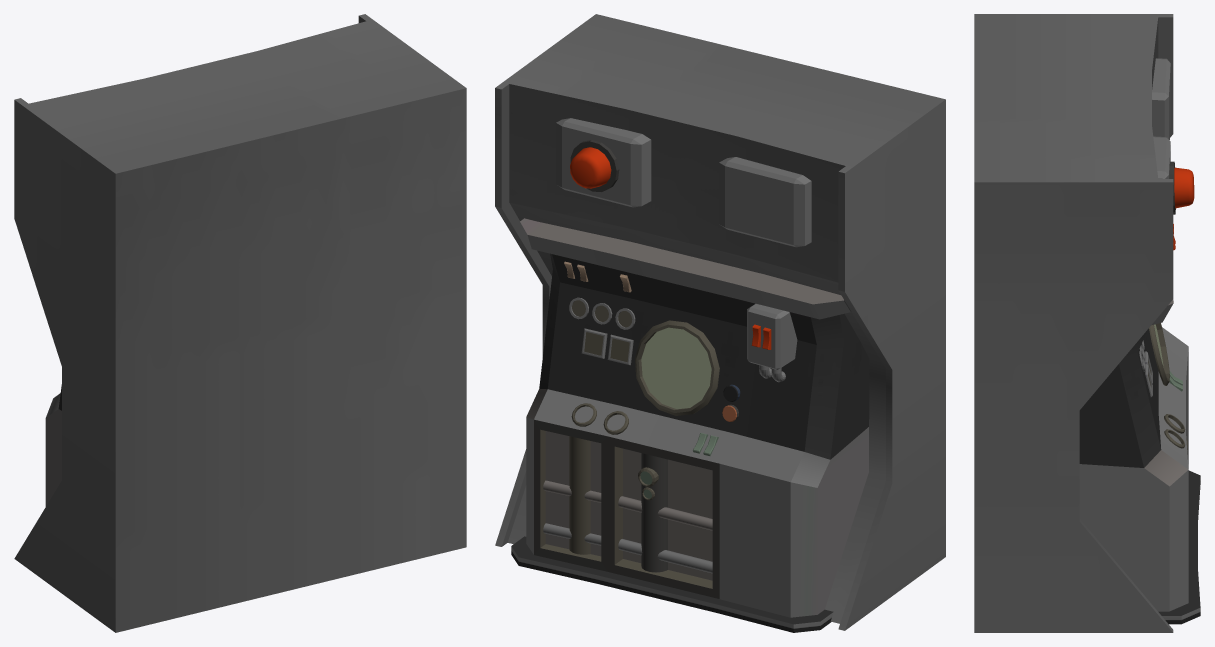
Rendered from Sonar_repair_station.glb.
3 views of the same model, side by side, from view 1: azimuth 30°, elevation 25°; view 2: azimuth 150°, elevation 25°; view 3: azimuth 270°, elevation 25° (orthographic).
Parts seen in each view (by area): view 1: pCube18; view 2: pCube18; view 3: pCube18.
Part boxes in pixels (left/top/right/bottom): pCube18: left=14, top=14, right=466, bottom=632; pCube18: left=495, top=14, right=945, bottom=632; pCube18: left=974, top=14, right=1200, bottom=632.
Bounding box in the file's own units: 4 × 5.01 × 2.27.
Materials: 1 (1 with a texture image).
